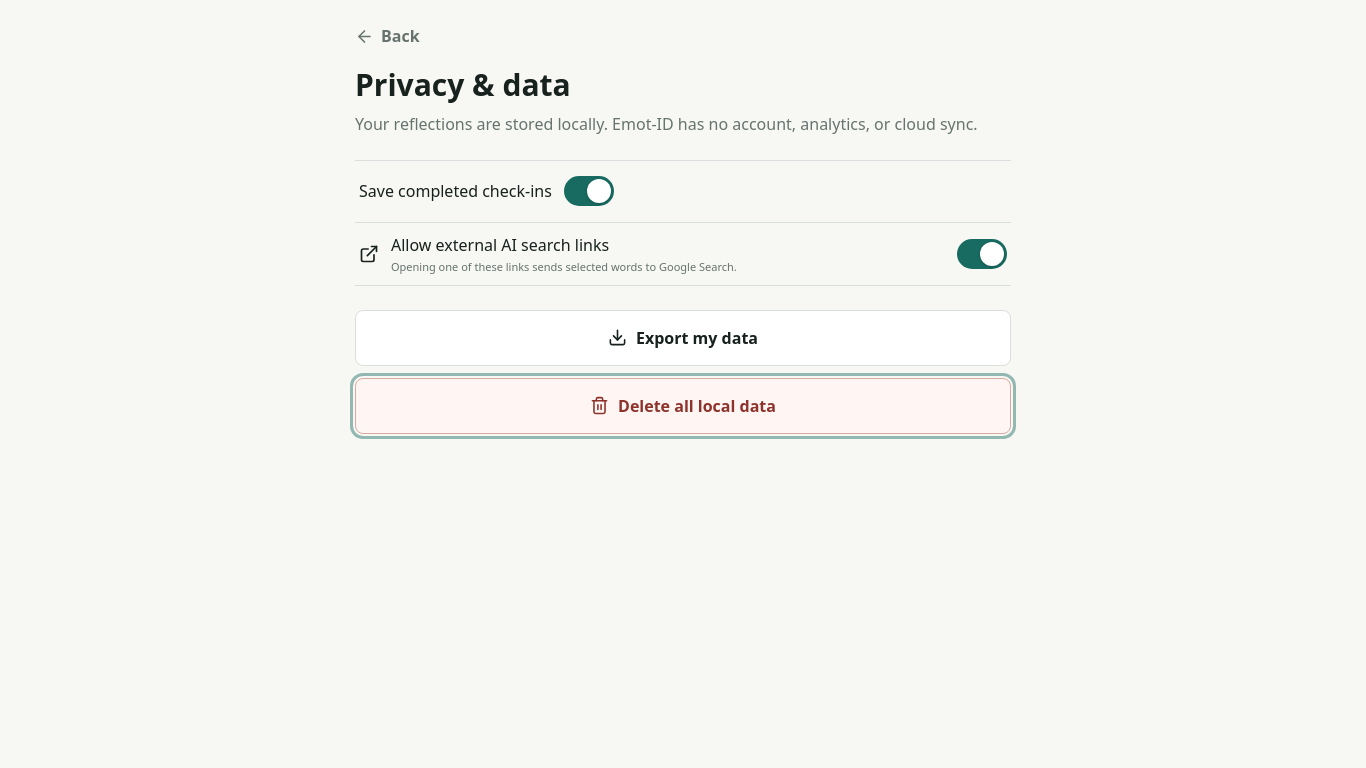
it: PrivacyDataScreen › portals and focus-traps destructive confirmation, then clears all data
What coordinates should you click on to do the following:
click the button "Delete all local data"
I would click on:
 (683, 406)
Its box is [355, 378, 1011, 434].
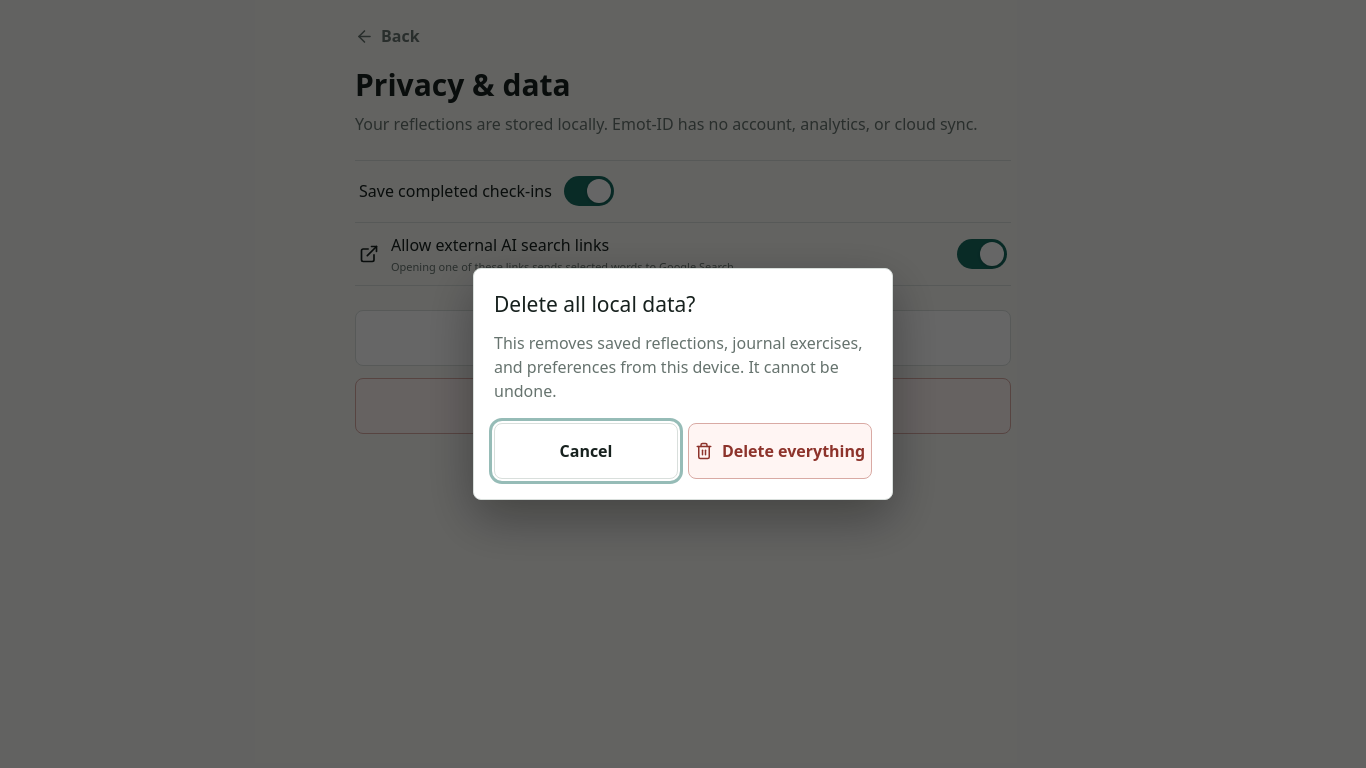
What coordinates should you click on to do the following:
click the button "Delete everything"
I would click on:
 (780, 451)
Its box is [688, 423, 872, 479].
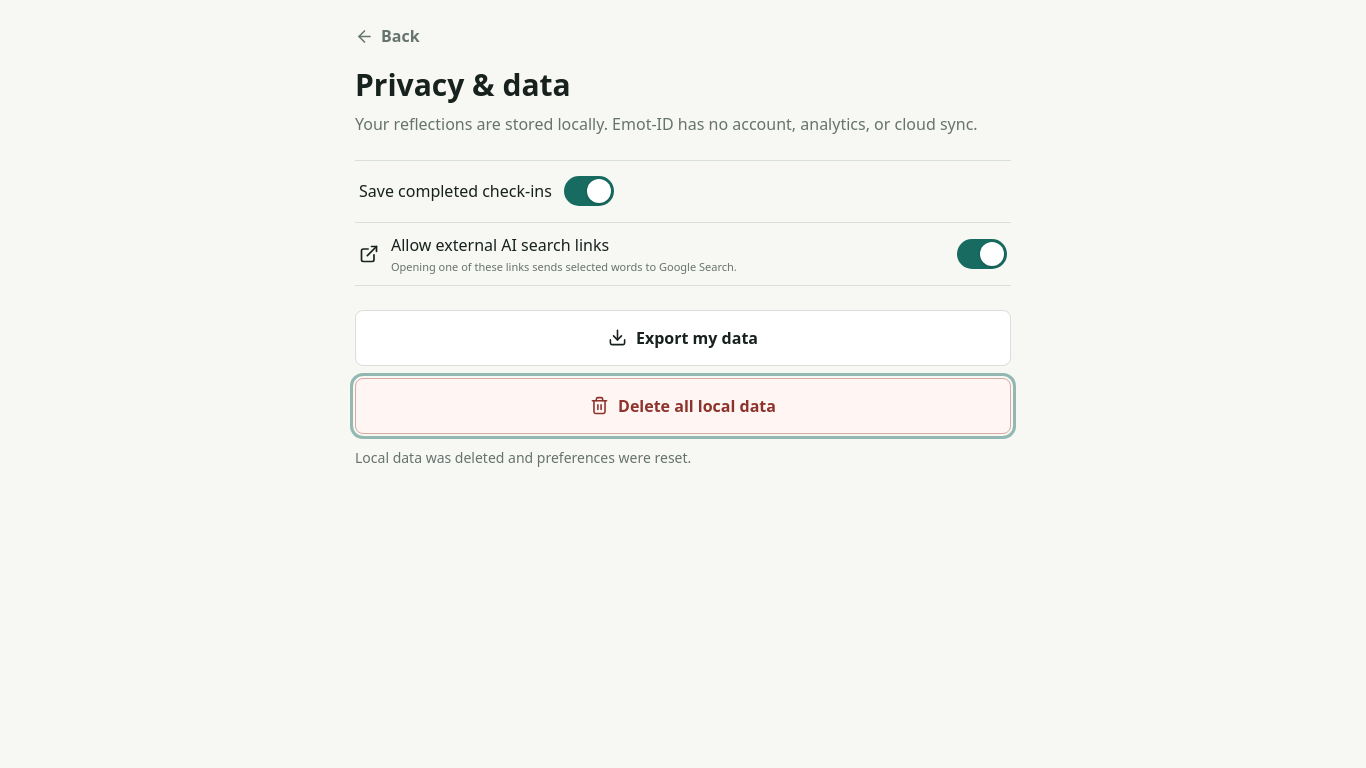
Expected: the dialog is gone
Expected: the message shows "Local data was deleted", [355, 448, 691, 467]
